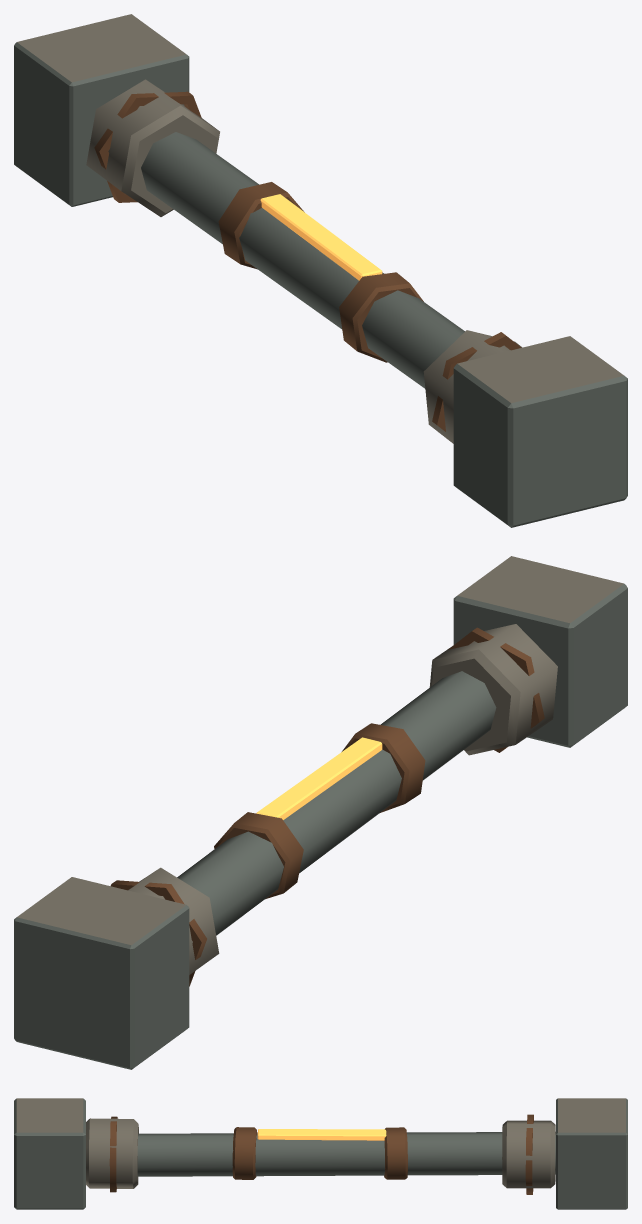
The model's file is R4C_ROD_STANDARD_LOD1.fbx.
3 renders of one model, top to bottom at view 1: azimuth 30°, elevation 25°; view 2: azimuth 150°, elevation 25°; view 3: azimuth 270°, elevation 25°, orthographic. The views are drawn at different scales.
Visible parts, largest first — view 1: R4C_ROD_STANDARD_LOD1; view 2: R4C_ROD_STANDARD_LOD1; view 3: R4C_ROD_STANDARD_LOD1.
Part boxes in pixels (<box>): R4C_ROD_STANDARD_LOD1: <box>14,14,627,527</box>; R4C_ROD_STANDARD_LOD1: <box>14,556,627,1069</box>; R4C_ROD_STANDARD_LOD1: <box>14,1098,627,1209</box>.
Size of the model in its own units: 0.226 by 0.224 by 1.62.
